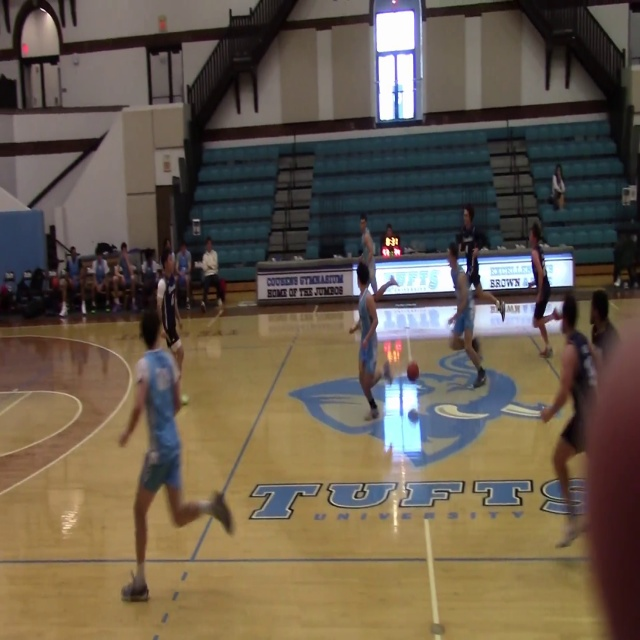Basketball: (407, 361, 419, 380), (408, 409, 418, 423), (180, 394, 189, 405)
